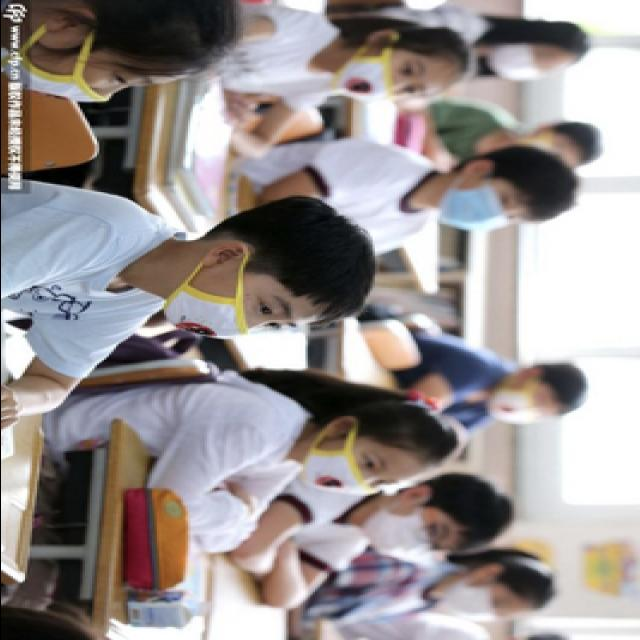mask: (7, 44, 158, 102), (158, 283, 300, 339), (328, 52, 432, 102), (295, 447, 395, 498), (357, 511, 453, 562), (434, 182, 530, 232), (484, 40, 560, 82), (441, 582, 515, 622), (482, 387, 556, 426)
